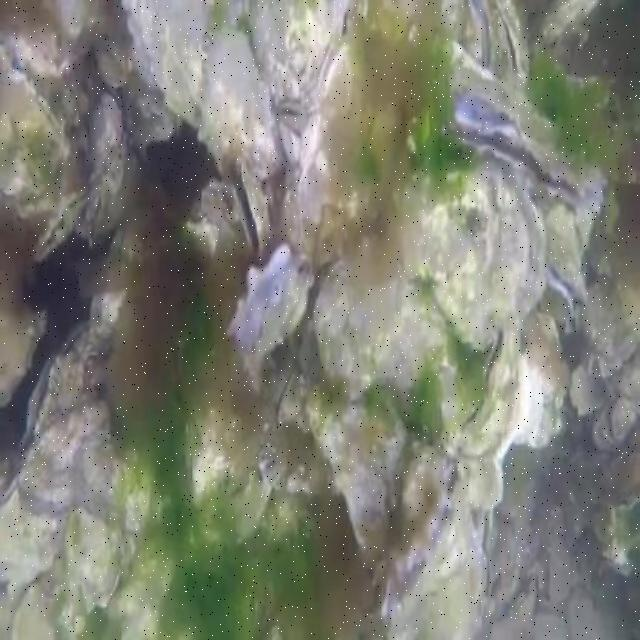Oyster-Closed: (424, 148, 545, 352), (313, 250, 445, 396), (118, 0, 244, 124), (0, 418, 81, 584), (201, 31, 284, 175), (0, 48, 68, 201), (241, 0, 336, 100), (515, 315, 567, 450), (396, 190, 466, 281), (65, 509, 123, 611), (583, 276, 638, 358), (0, 313, 47, 407), (403, 443, 446, 533), (88, 86, 125, 174), (544, 0, 601, 44), (547, 539, 574, 602), (275, 369, 302, 430), (569, 368, 606, 412), (611, 399, 637, 439)
Oyster-Open: (383, 463, 490, 638), (441, 107, 605, 208), (228, 246, 315, 361), (22, 320, 95, 447), (453, 323, 521, 455), (451, 65, 522, 130), (33, 187, 87, 266), (233, 163, 273, 250), (492, 0, 528, 90), (90, 187, 108, 247), (279, 99, 308, 127)
